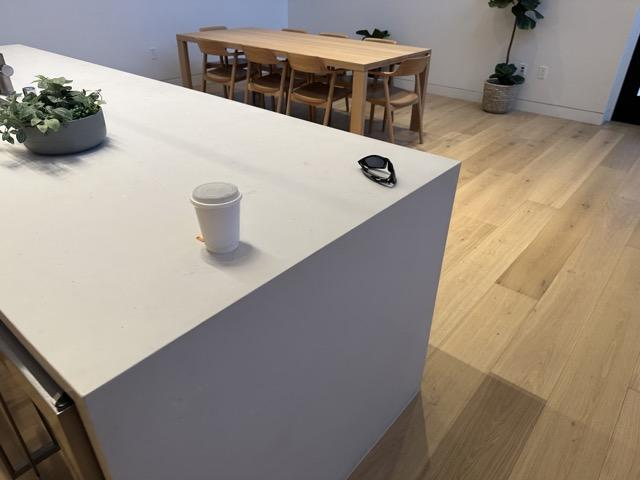Sunglasses: (357, 153, 398, 188)
